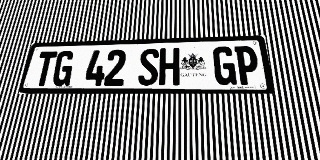2: (104, 49, 127, 86)
4: (84, 50, 108, 86)
G: (213, 46, 237, 85), (51, 51, 76, 86)
H: (159, 48, 179, 85)
P: (234, 46, 260, 85)
S: (138, 48, 159, 86)
T: (33, 51, 58, 86)
